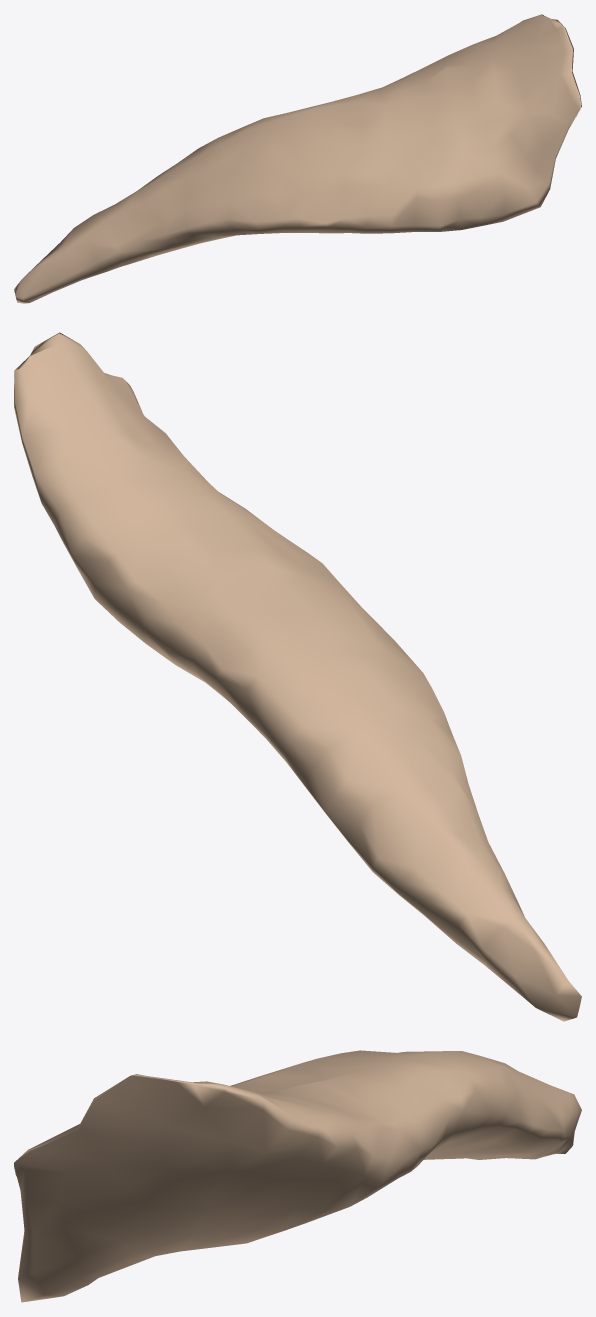
The picture shows the model from 3 angles, top to bottom: view 1: azimuth 30°, elevation 25°; view 2: azimuth 150°, elevation 25°; view 3: azimuth 270°, elevation 25°; orthographic projection. The views are drawn at different scales.
Visible parts, largest first — view 1: 右侧梨状肌筋膜; view 2: 右侧梨状肌筋膜; view 3: 右侧梨状肌筋膜.
Boxes of the visible parts, box(x1,y1,x2,y2) form: 右侧梨状肌筋膜: box(14, 14, 581, 303); 右侧梨状肌筋膜: box(14, 332, 581, 1021); 右侧梨状肌筋膜: box(14, 1050, 581, 1302).
Bounding box in the file's own units: 0.1632 × 0.0881 × 0.0943.
